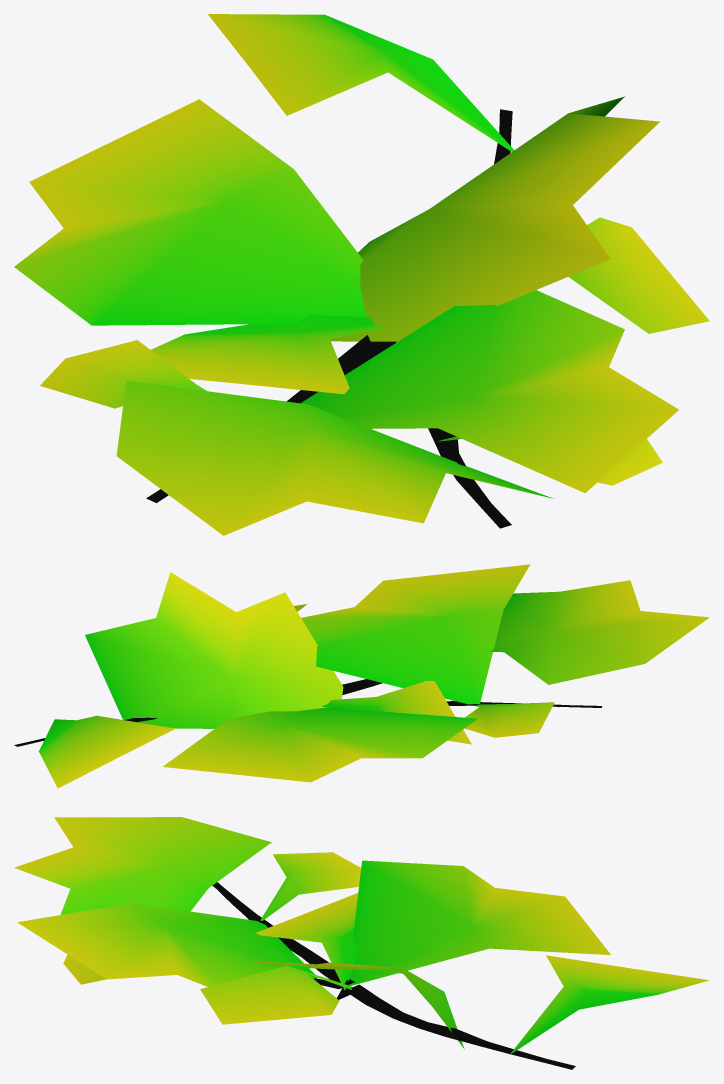
Rendered from Mile-a-minute Vine_LOD0_Var9_sfqns.fbx.
The picture shows the model from 3 angles, top to bottom: view 1: azimuth 30°, elevation 25°; view 2: azimuth 150°, elevation 25°; view 3: azimuth 270°, elevation 25°; orthographic projection. The views are drawn at different scales.
Visible parts, largest first — view 1: _2cf3_Var9_LOD0; view 2: _2cf3_Var9_LOD0; view 3: _2cf3_Var9_LOD0.
Boxes of the visible parts, x1,y1,x2,y2 form: _2cf3_Var9_LOD0: (14, 14, 709, 535); _2cf3_Var9_LOD0: (14, 564, 709, 788); _2cf3_Var9_LOD0: (14, 817, 708, 1069).
Bounding box in the file's own units: 9.55 × 2.29 × 13.37.
